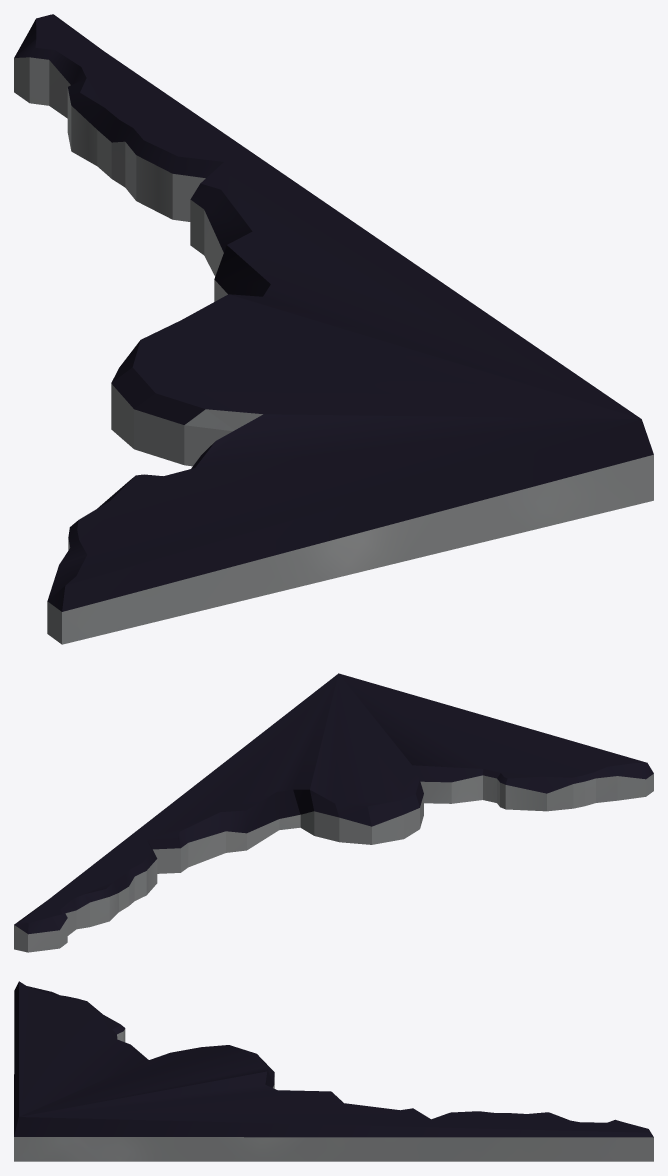
File: SM_Rock2 1.fbx
3 views of the same model, one above another, from view 1: azimuth 30°, elevation 25°; view 2: azimuth 150°, elevation 25°; view 3: azimuth 270°, elevation 25° (orthographic). The views are drawn at different scales.
Parts seen in each view (by area): view 1: Rock2; view 2: Rock2; view 3: Rock2.
Boxes of the visible parts, x1,y1,x2,y2 form: Rock2: (14, 14, 653, 644); Rock2: (14, 673, 653, 952); Rock2: (14, 981, 653, 1161).
Size of the model in its own units: 4652 by 600 by 8178.
